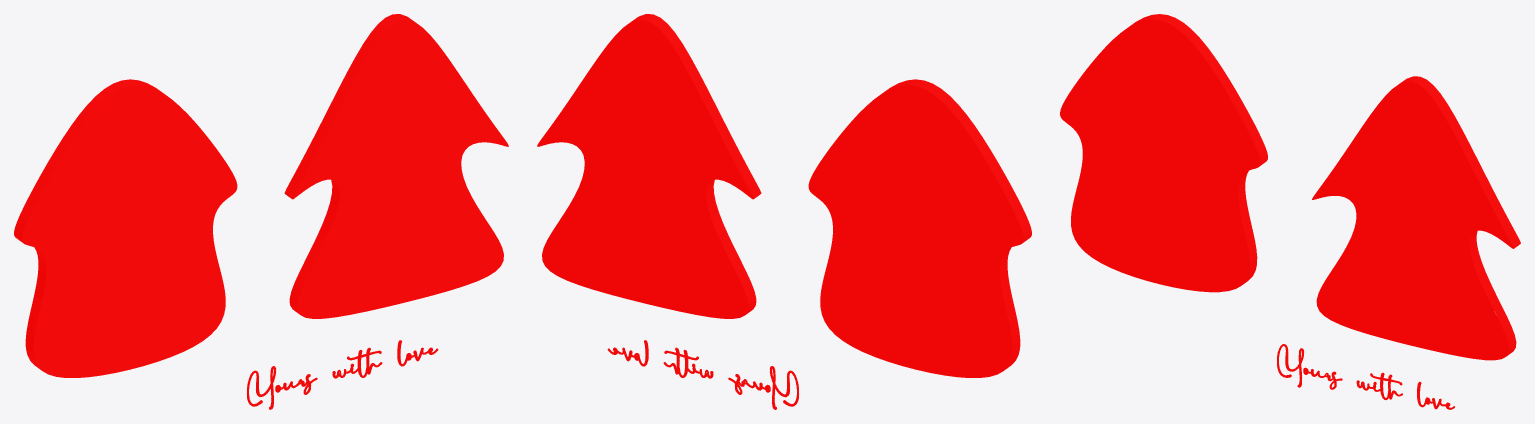
The model's file is ywl1.glb.
3 renders of one model, left to right at view 1: azimuth 30°, elevation 25°; view 2: azimuth 150°, elevation 25°; view 3: azimuth 330°, elevation 25°, orthographic. The views are drawn at different scales.
Bounding box in the file's own units: 1.8 × 1.28 × 0.05.
